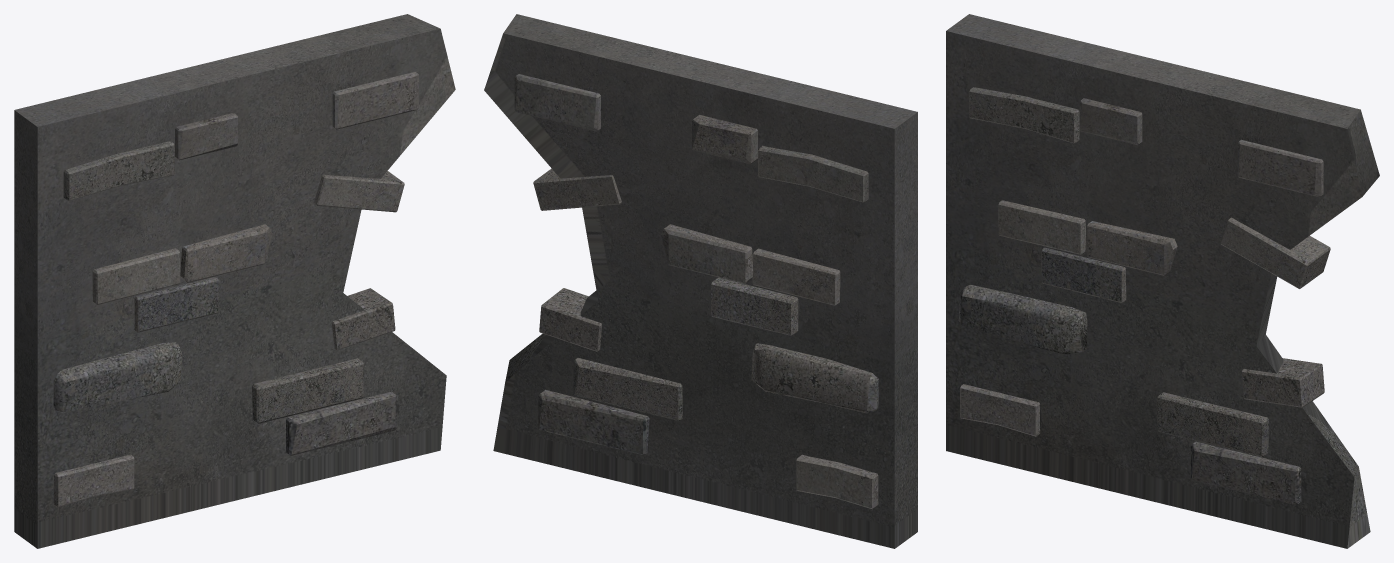
The model's file is Wall_crack2.fbx.
The picture shows the model from 3 angles, left to right: view 1: azimuth 30°, elevation 25°; view 2: azimuth 150°, elevation 25°; view 3: azimuth 330°, elevation 25°; orthographic projection.
Visible parts, largest first — view 1: Wall_crack2; view 2: Wall_crack2; view 3: Wall_crack2.
Part boxes in pixels (x1,y1,x2,y2): Wall_crack2: (14, 14, 455, 548); Wall_crack2: (484, 14, 917, 548); Wall_crack2: (946, 14, 1379, 548).
Size of the model in its own units: 3.11 by 3 by 0.5201.
1 material, 1 textured.
